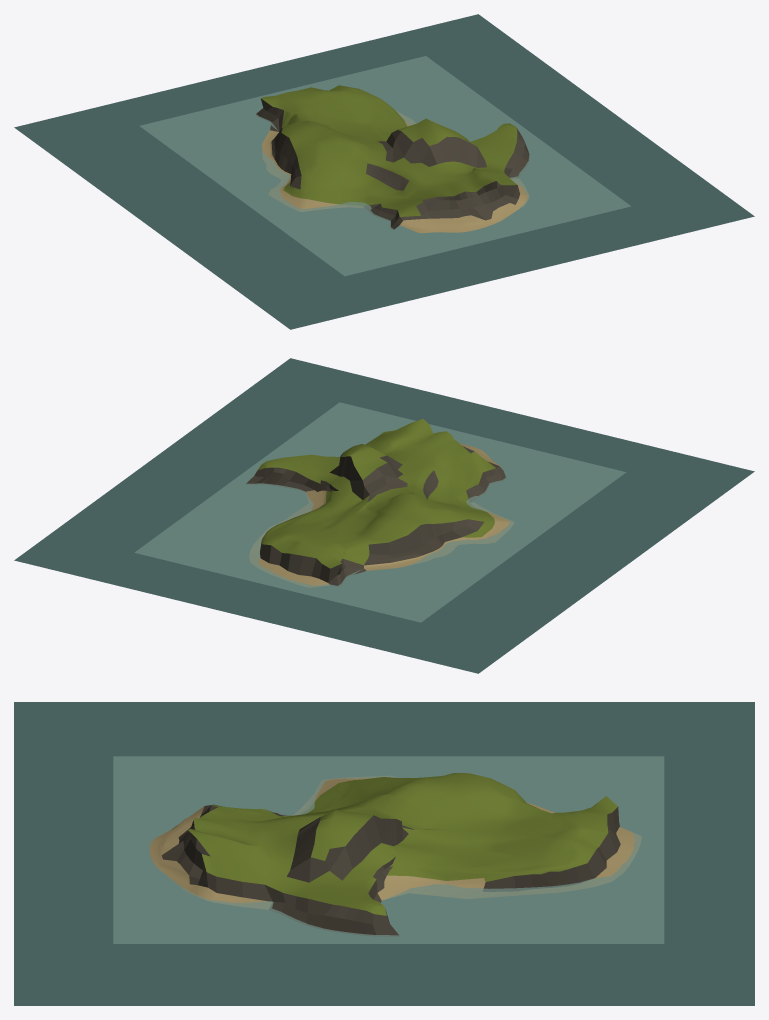
Rendered from Terrain.fbx.
3 renders of one model, top to bottom at view 1: azimuth 30°, elevation 25°; view 2: azimuth 150°, elevation 25°; view 3: azimuth 270°, elevation 25°, orthographic. The views are drawn at different scales.
Parts seen in each view (by area): view 1: Water1, Water, Terrain; view 2: Water1, Water, Terrain; view 3: Water1, Water, Terrain.
Boxes of the visible parts, box(x1,y1,x2,y2) form: Water1: box(14, 14, 754, 329); Water: box(139, 56, 630, 276); Terrain: box(255, 85, 529, 233); Water1: box(14, 358, 754, 673); Water: box(134, 402, 626, 622); Terrain: box(245, 419, 513, 587); Water1: box(14, 702, 754, 1005); Water: box(113, 756, 664, 943); Terrain: box(149, 773, 641, 936).
Bounding box in the file's own units: 185 × 18.01 × 191.
